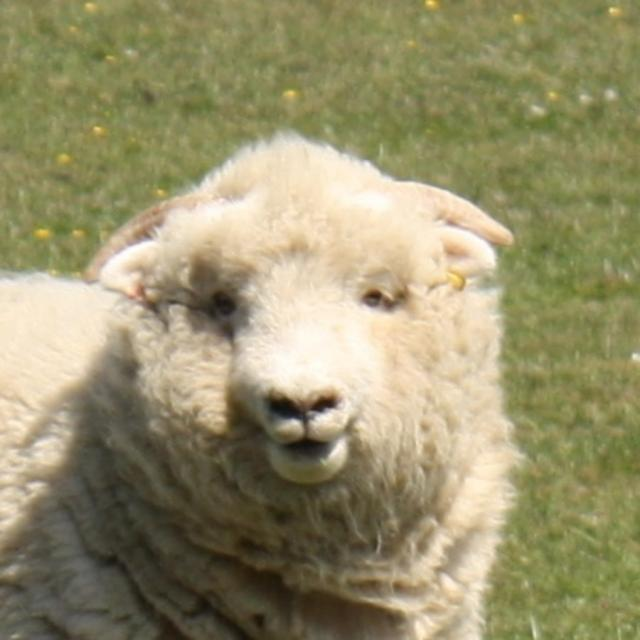Sheep: (0, 129, 520, 638)
